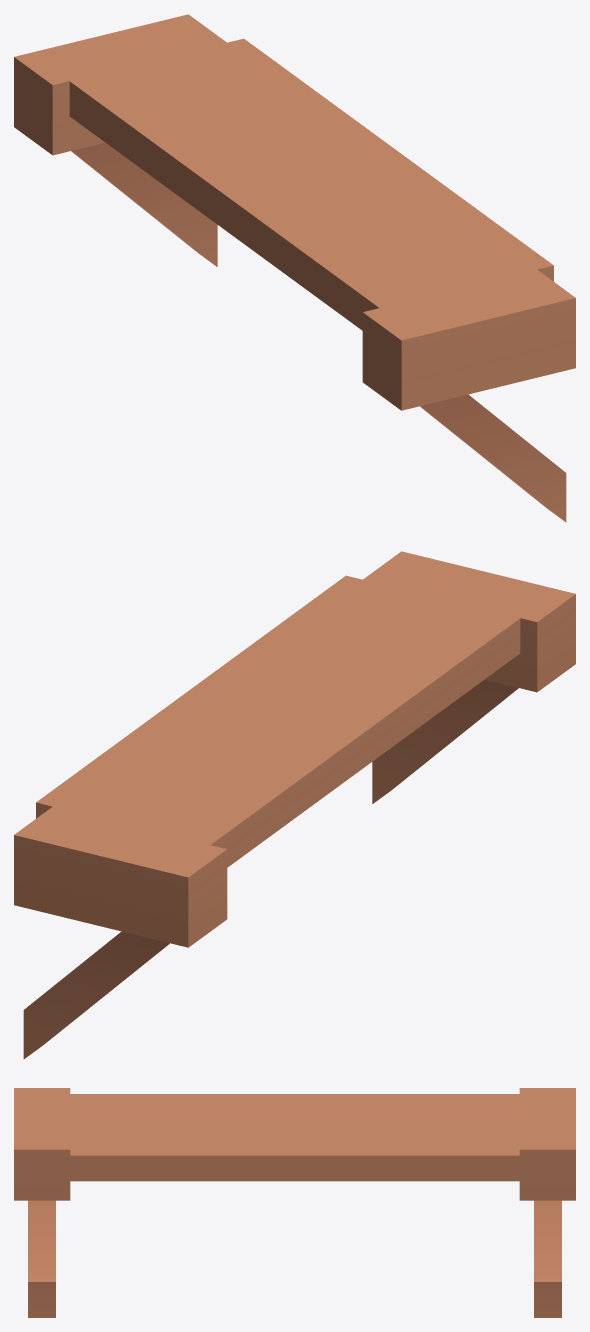
File: overhang.glb
The picture shows the model from 3 angles, top to bottom: view 1: azimuth 30°, elevation 25°; view 2: azimuth 150°, elevation 25°; view 3: azimuth 270°, elevation 25°; orthographic projection. The views are drawn at different scales.
Visible parts, largest first — view 1: overhang; view 2: overhang; view 3: overhang.
Part boxes in pixels (bbox=[...]): overhang: bbox=[14, 14, 575, 522]; overhang: bbox=[14, 551, 575, 1059]; overhang: bbox=[14, 1088, 575, 1317].
Bounding box in the file's own units: 0.285 × 0.33 × 1.
1 material, 1 textured.
